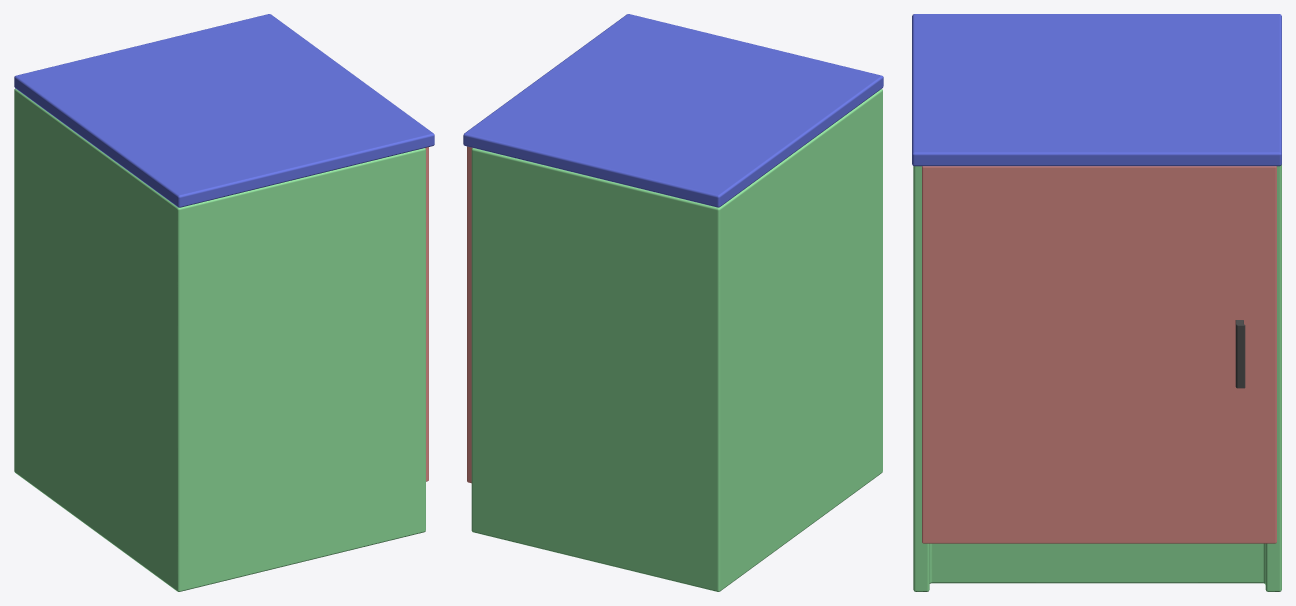
The model's file is cupboard2.fbx.
3 views of the same model, side by side, from view 1: azimuth 30°, elevation 25°; view 2: azimuth 150°, elevation 25°; view 3: azimuth 270°, elevation 25° (orthographic). The views are drawn at different scales.
Visible parts, largest first — view 1: left.006, left.007, left.008; view 2: left.006, left.007, left.008; view 3: left.008, left.007, left.006, Cube.006.
Part boxes in pixels (<box>): left.006: <box>14,88,425,591</box>; left.007: <box>14,14,434,207</box>; left.008: <box>425,147,428,481</box>; left.006: <box>471,89,882,591</box>; left.007: <box>463,14,883,207</box>; left.008: <box>467,146,472,483</box>; left.008: <box>922,166,1276,543</box>; left.007: <box>912,14,1281,166</box>; left.006: <box>913,164,1281,591</box>; Cube.006: <box>1235,320,1245,388</box>.
Size of the model in its own units: 64.97 by 93.08 by 70.25.
